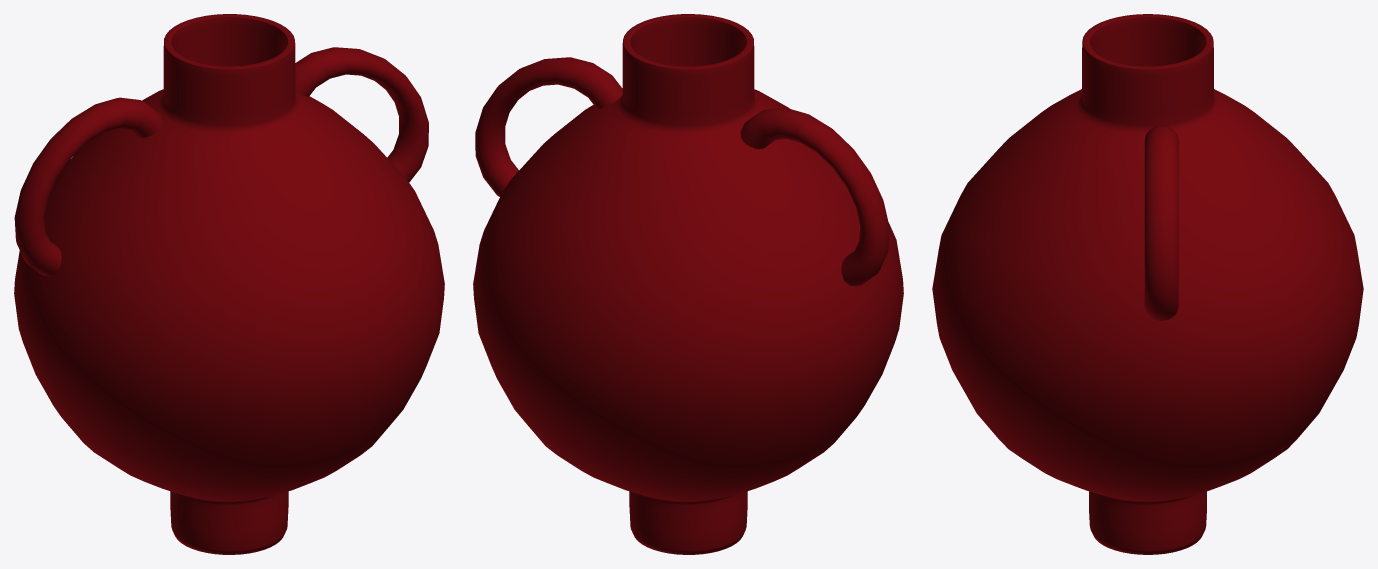
Rendered from Renai_Vase2.fbx.
3 renders of one model, left to right at view 1: azimuth 30°, elevation 25°; view 2: azimuth 150°, elevation 25°; view 3: azimuth 270°, elevation 25°, orthographic.
Parts seen in each view (by area): view 1: vaseBase, vaseHandle, vaseHandle1; view 2: vaseBase, vaseHandle, vaseHandle1; view 3: vaseBase, vaseHandle1.
Part boxes in pixels (left/top/right/bottom): vaseBase: left=14, top=14, right=444, bottom=554; vaseHandle: left=14, top=97, right=162, bottom=276; vaseHandle1: left=295, top=47, right=428, bottom=182; vaseBase: left=473, top=14, right=903, bottom=554; vaseHandle: left=740, top=107, right=889, bottom=286; vaseHandle1: left=475, top=57, right=622, bottom=196; vaseBase: left=932, top=14, right=1363, bottom=554; vaseHandle1: left=1144, top=125, right=1178, bottom=320.
Size of the model in its own units: 1.09 by 1.24 by 0.9931.
1 material, 1 textured.
